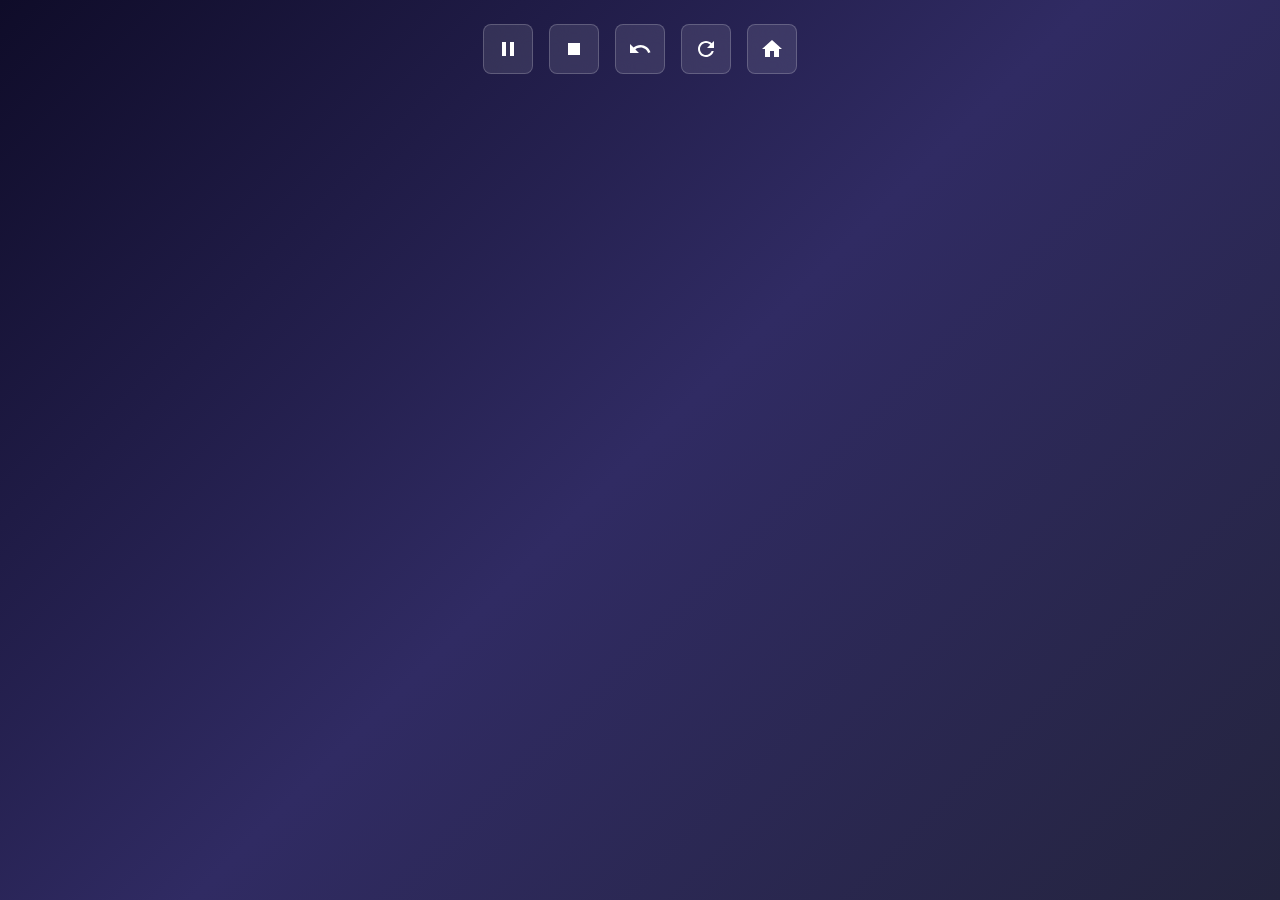
Test: GameControls Component › should show reset confirmation dialog when reset is clicked
Click the button titled "Reset Game" at (706, 49), box [681, 24, 731, 74]
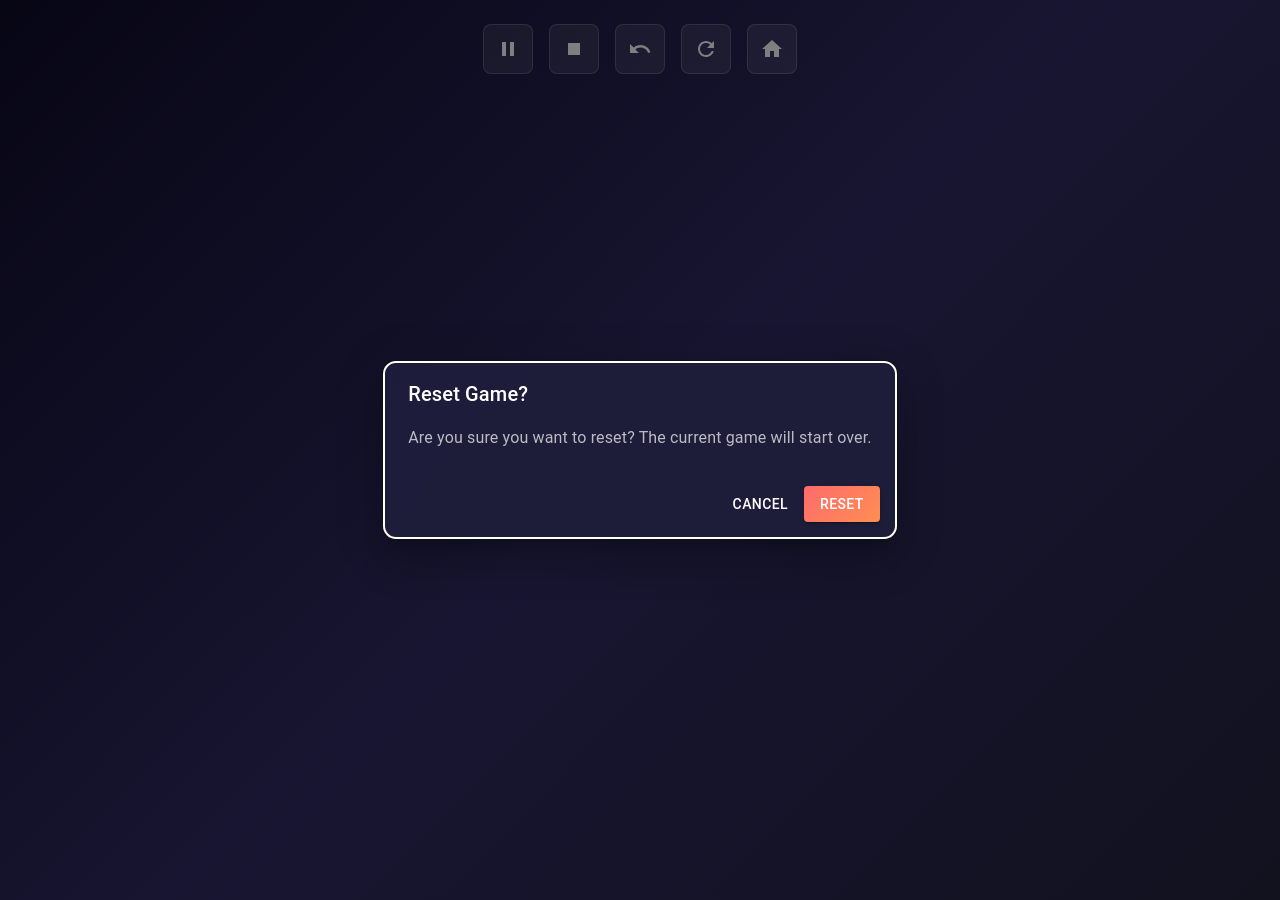
Result: the heading "Reset Game?" is shown at [408, 382, 528, 406]
